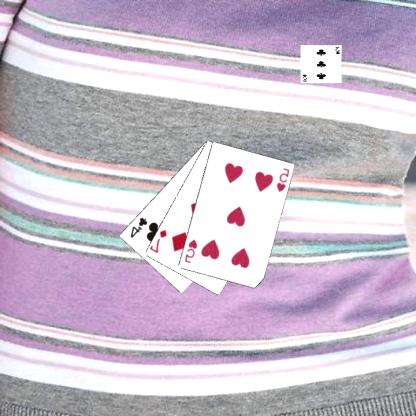4C: (130, 215, 151, 239)
5H: (275, 165, 292, 194), (184, 237, 200, 265)
7D: (150, 227, 169, 254)
